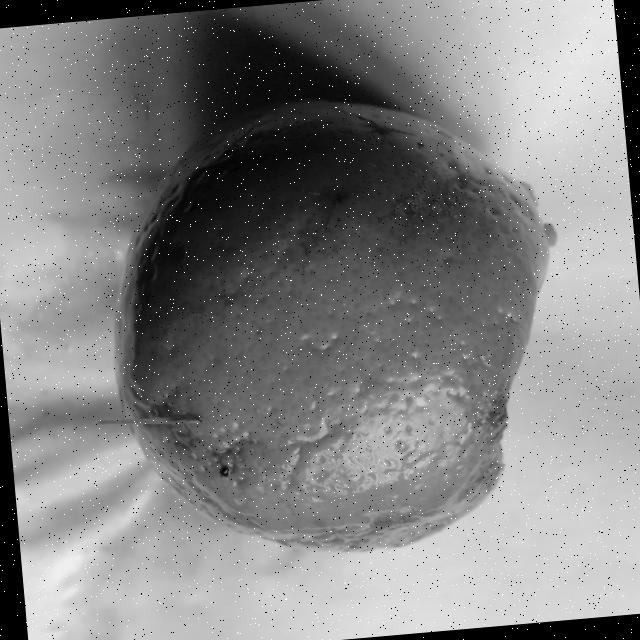Rotten: (89, 71, 580, 574)
